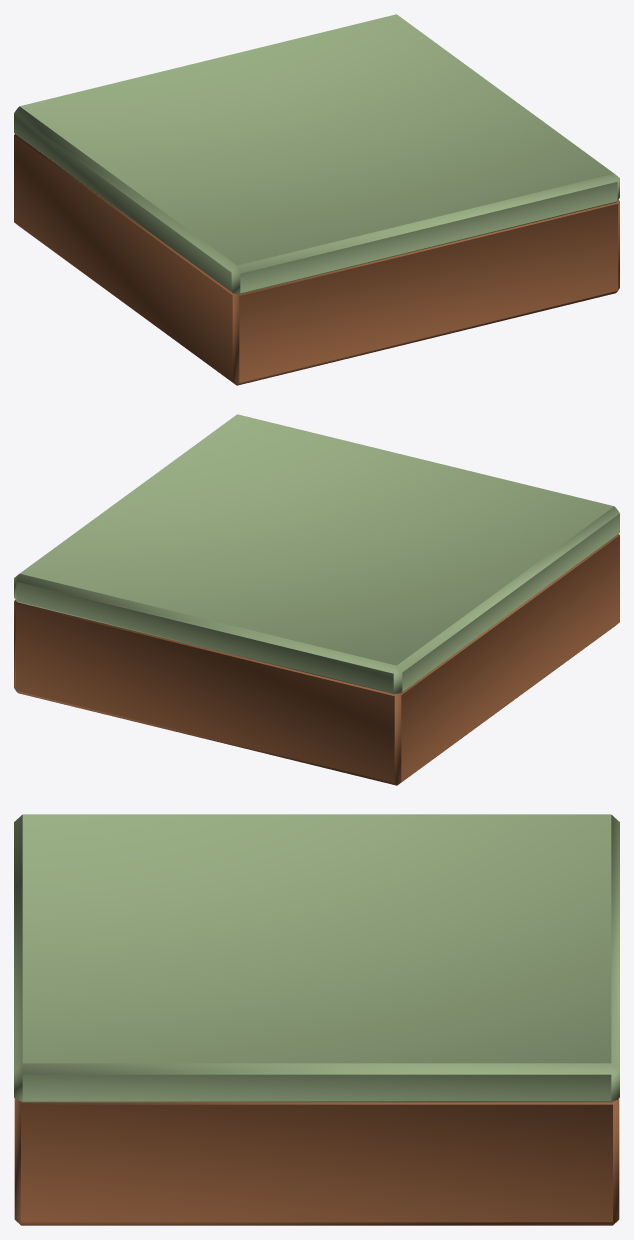
Rendered from tile_grove_birch.glb.
The picture shows the model from 3 angles, top to bottom: view 1: azimuth 30°, elevation 25°; view 2: azimuth 150°, elevation 25°; view 3: azimuth 270°, elevation 25°; orthographic projection. The views are drawn at different scales.
Parts seen in each view (by area): view 1: grove_ground_cap, grove_ground_body; view 2: grove_ground_cap, grove_ground_body; view 3: grove_ground_cap, grove_ground_body.
Boxes of the visible parts, box(x1,y1,x2,y2) form: grove_ground_cap: box(14, 14, 619, 294); grove_ground_body: box(14, 134, 619, 385); grove_ground_cap: box(14, 414, 619, 694); grove_ground_body: box(14, 534, 619, 785); grove_ground_cap: box(14, 814, 619, 1102); grove_ground_body: box(14, 1098, 619, 1225).
Bounding box in the file's own units: 1.7 × 0.5 × 1.7.
